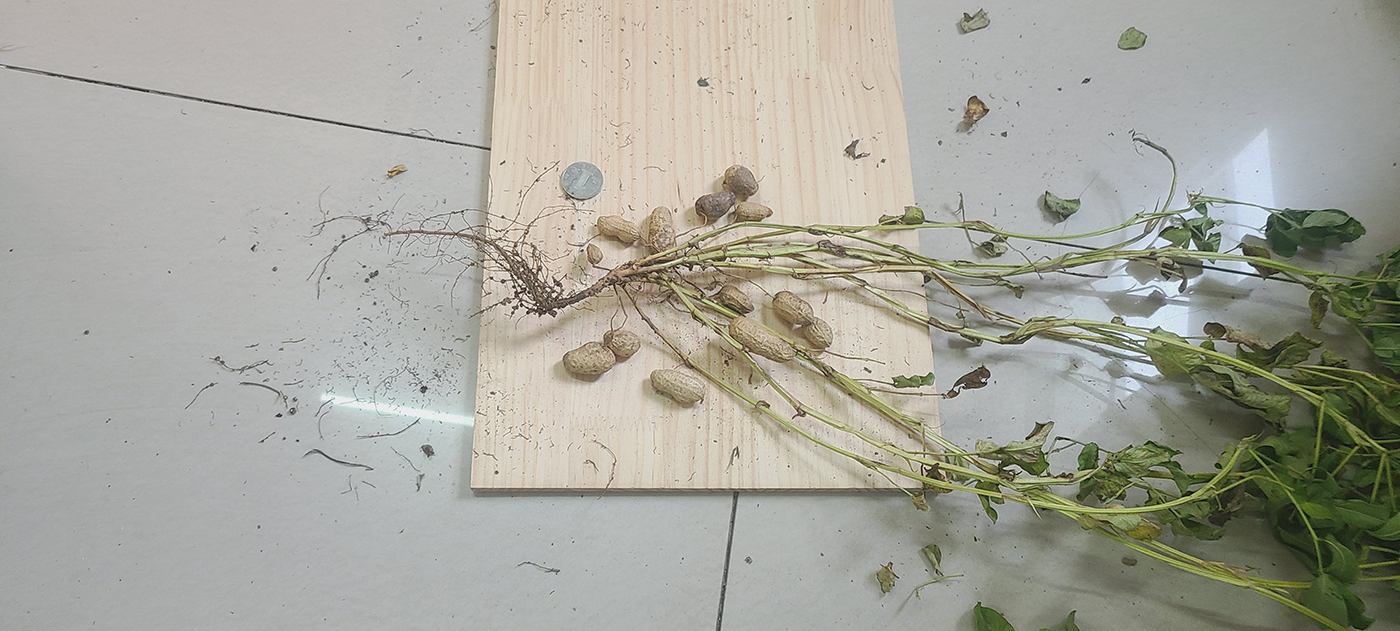h: (772, 291, 834, 348), (727, 317, 796, 363), (650, 369, 706, 405), (563, 341, 614, 377), (649, 207, 678, 259), (597, 215, 641, 245), (719, 284, 755, 314), (603, 331, 642, 358), (735, 202, 773, 221)
l: (694, 191, 735, 221), (724, 165, 760, 196)
